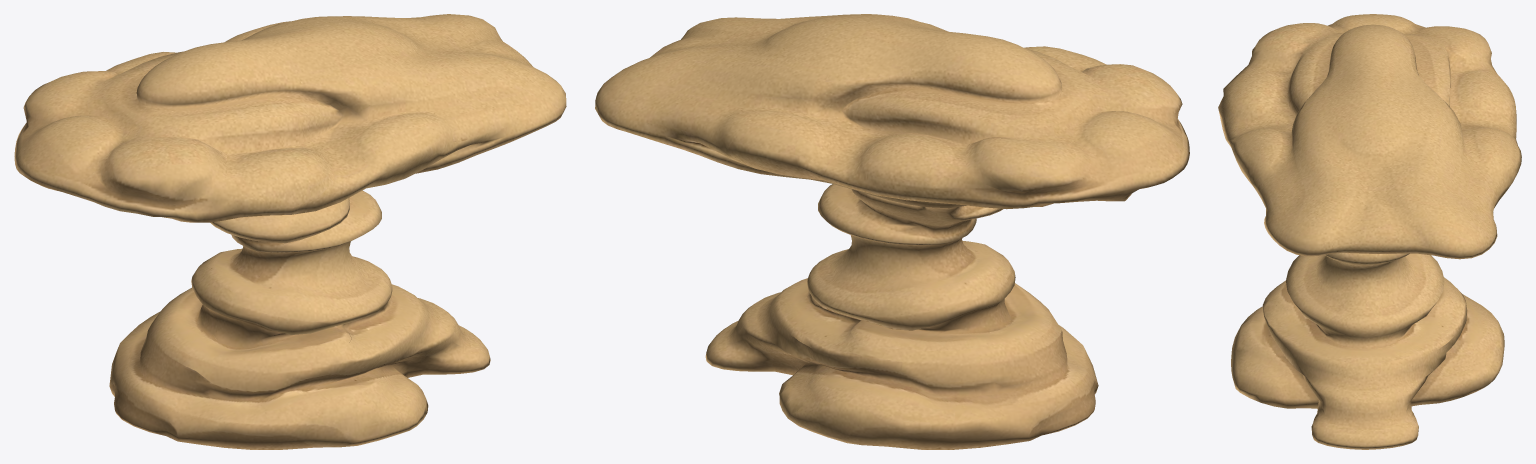
Rendered from tripo_convert_89753ab7-3269-43b6-9b20-a41e3d067c0c.fbx.
3 renders of one model, left to right at view 1: azimuth 30°, elevation 25°; view 2: azimuth 150°, elevation 25°; view 3: azimuth 270°, elevation 25°, orthographic. The views are drawn at different scales.
Parts seen in each view (by area): view 1: tripo_node_89753ab7; view 2: tripo_node_89753ab7; view 3: tripo_node_89753ab7.
Boxes of the visible parts, x1,y1,x2,y2 form: tripo_node_89753ab7: (14,14,566,449); tripo_node_89753ab7: (595,14,1189,449); tripo_node_89753ab7: (1218,14,1521,449).
Size of the model in its own units: 0.9995 by 0.6538 by 0.5913.
Materials: 1 (1 with a texture image).
